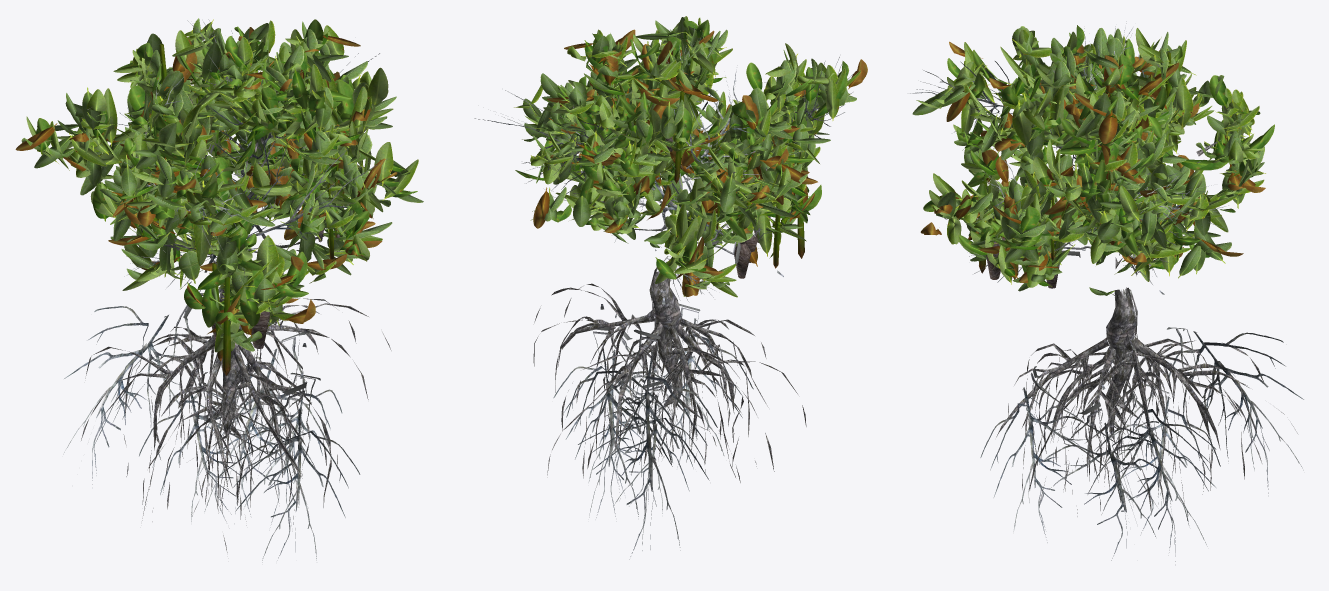
Rendered from red_lod1.glb.
3 renders of one model, left to right at view 1: azimuth 30°, elevation 25°; view 2: azimuth 150°, elevation 25°; view 3: azimuth 270°, elevation 25°, orthographic. The views are drawn at different scales.
Parts seen in each view (by area): view 1: lod1; view 2: lod1; view 3: lod1.
Boxes of the visible parts, x1,y1,x2,y2 form: lod1: (15, 18, 423, 562); lod1: (474, 16, 867, 559); lod1: (910, 21, 1303, 565).
Size of the model in its own units: 7.29 by 10.05 by 7.14.
Materials: 4 (4 with a texture image).
